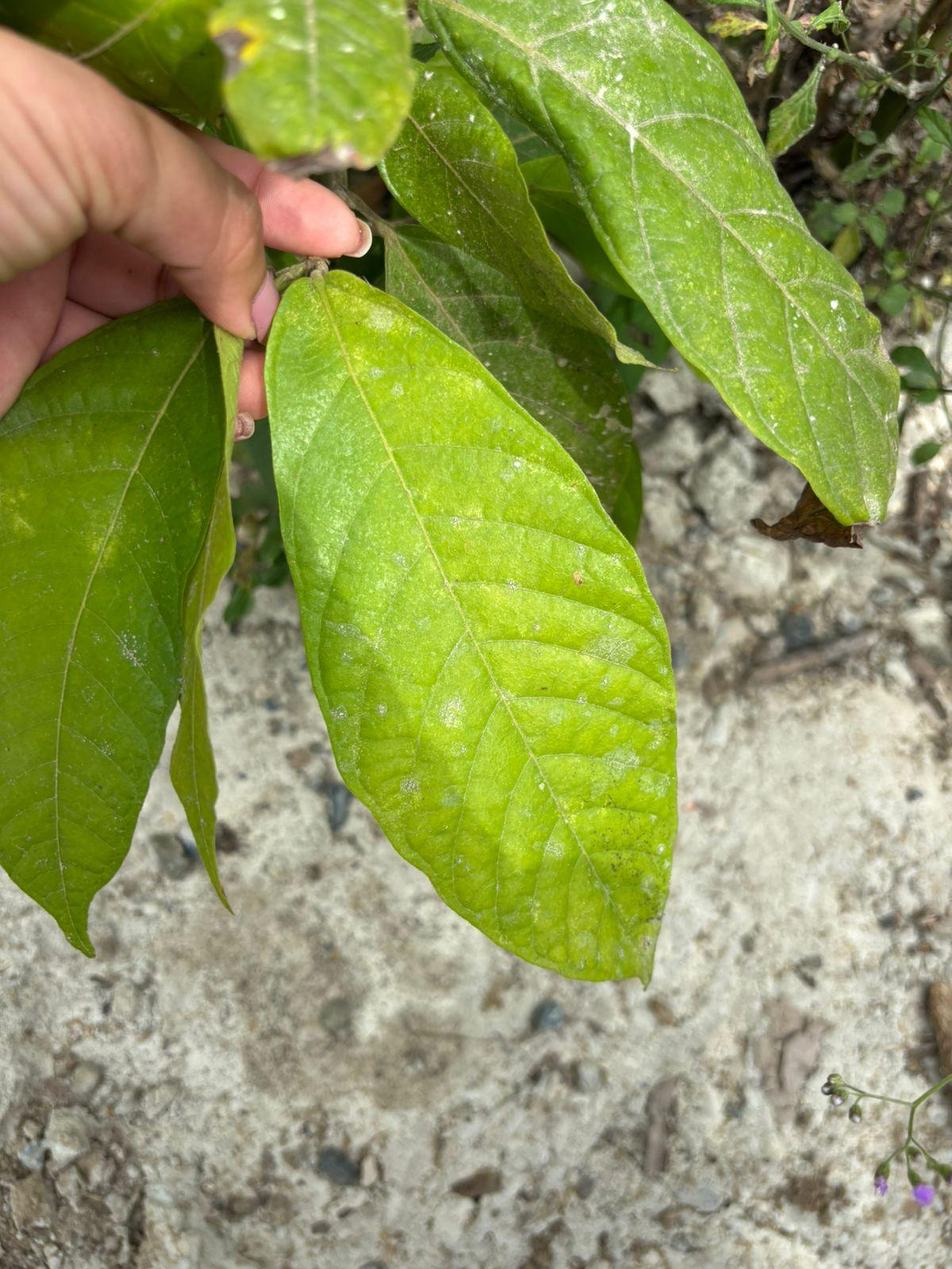deficiencia_nitrogeno: (270, 270, 675, 982)
